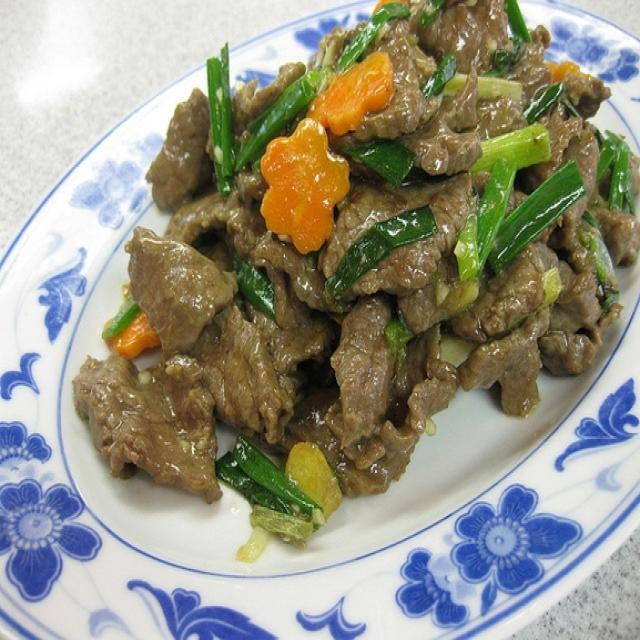牛肉菜式: (53, 27, 618, 564)
